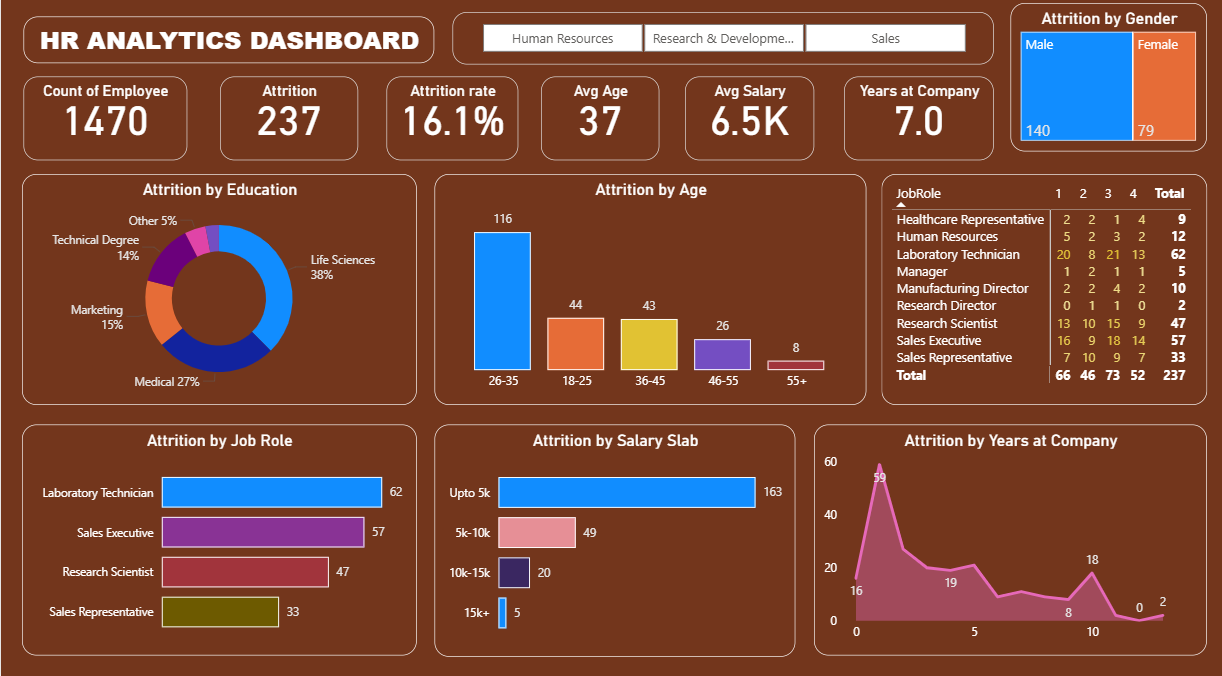

The dashboard page shown, as its layout file describes it:
{"tool":"powerbi","page":{"name":"Page 1","canvas":[1280,720],"ordinal":0},"visuals":[{"type":"card","title":"Count of Employee","fields":{"Values":["CountNonNull(HR_Analytics.EmpID)"]},"box":[23.4,89.1,170.4,87.5],"z":0},{"type":"card","title":"Attrition","fields":{"Values":["Sum(HR_Analytics.AttritionCount)"]},"box":[228.2,89.1,143.8,87.5],"z":1000},{"type":"card","title":"Attrition rate","fields":{"Values":["HR_Analytics.AttritionRate"]},"box":[401.7,89.1,137.5,87.5],"z":2000},{"type":"card","title":"Avg Age","fields":{"Values":["Avg(HR_Analytics.Age)"]},"box":[562.7,89.1,123.5,87.5],"z":3000},{"type":"card","title":"Avg Salary","fields":{"Values":["Avg(HR_Analytics.MonthlyIncome)"]},"box":[712.7,89.1,134.4,87.5],"z":4000},{"type":"card","title":"Years at Company","fields":{"Values":["Avg(HR_Analytics.YearsAtCompany)"]},"box":[878.4,89.1,156.3,87.5],"z":5000},{"type":"donutChart","title":"Attrition by Education","fields":{"Category":["HR_Analytics.EducationField"],"Y":["Sum(HR_Analytics.AttritionCount)"]},"box":[21.9,190.7,411.1,240.7],"z":6000},{"type":"columnChart","title":"Attrition by Age","fields":{"Category":["HR_Analytics.AgeGroup"],"Y":["Sum(HR_Analytics.AttritionCount)"]},"box":[451.7,190.7,450.1,240.7],"z":7000},{"type":"barChart","title":"Attrition by Job Role","fields":{"Category":["HR_Analytics.JobRole","HR_Analytics.SalarySlab"],"Y":["Sum(HR_Analytics.AttritionCount)"]},"box":[21.9,451.7,411.1,240.7],"z":8000},{"type":"barChart","title":"Attrition by Salary Slab","fields":{"Category":["HR_Analytics.SalarySlab"],"Y":["Sum(HR_Analytics.AttritionCount)"]},"box":[451.7,451.7,376.1,241.9],"z":9000},{"type":"areaChart","title":"Attrition by Years at Company","fields":{"Category":["HR_Analytics.YearsAtCompany"],"Y":["Sum(HR_Analytics.AttritionCount)"]},"box":[847.1,451.7,409.5,240.7],"z":10000},{"type":"treemap","title":"Attrition by Gender","fields":{"Group":["HR_Analytics.Gender"],"Values":["Sum(HR_Analytics.AttritionCount)"]},"box":[1051.9,12.5,204.8,154.7],"z":11000},{"type":"slicer","fields":{"Values":["HR_Analytics.Department"]},"box":[470.5,21.9,564.2,54.7],"z":12000},{"type":"textbox","title":" HR ANALYTICS DASHBOARD","box":[23.4,26.6,428.3,48.5],"z":13000},{"type":"pivotTable","fields":{"Rows":["HR_Analytics.JobRole"],"Columns":["HR_Analytics.JobSatisfaction"],"Values":["Sum(HR_Analytics.AttritionCount)"]},"box":[917.5,190.7,339.2,240.7],"z":14000}]}

Visuals, with their boxes in screenshot pixels (x1, y1, x2, y2), scaled from the page's 1280x720 canvas onto the 1222x676 screenshot:
"Count of Employee" card: bbox=[22, 84, 185, 166]
"Attrition" card: bbox=[218, 84, 355, 166]
"Attrition rate" card: bbox=[383, 84, 515, 166]
"Avg Age" card: bbox=[537, 84, 655, 166]
"Avg Salary" card: bbox=[680, 84, 809, 166]
"Years at Company" card: bbox=[839, 84, 988, 166]
"Attrition by Education" donutChart: bbox=[21, 179, 413, 405]
"Attrition by Age" columnChart: bbox=[431, 179, 861, 405]
"Attrition by Job Role" barChart: bbox=[21, 424, 413, 650]
"Attrition by Salary Slab" barChart: bbox=[431, 424, 790, 651]
"Attrition by Years at Company" areaChart: bbox=[809, 424, 1200, 650]
"Attrition by Gender" treemap: bbox=[1004, 12, 1200, 157]
slicer - HR_Analytics.Department: bbox=[449, 21, 988, 72]
" HR ANALYTICS DASHBOARD" textbox: bbox=[22, 25, 431, 71]
pivotTable - HR_Analytics.JobRole x HR_Analytics.JobSatisfaction: bbox=[876, 179, 1200, 405]
